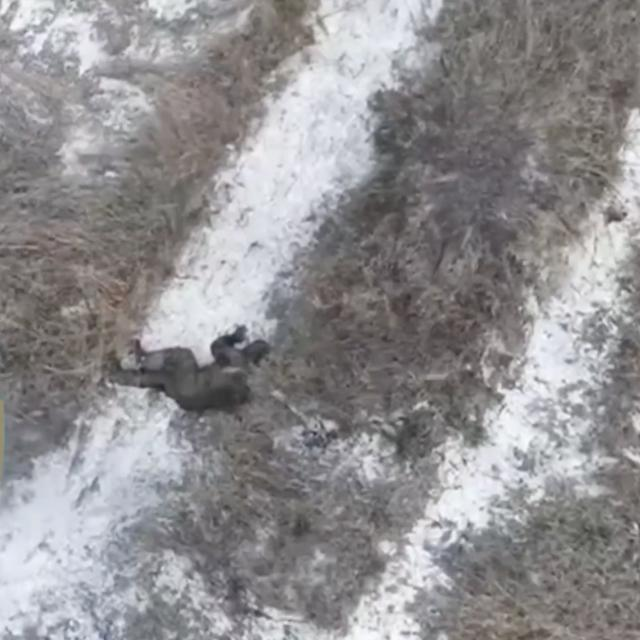infantry: (105, 322, 265, 410)
